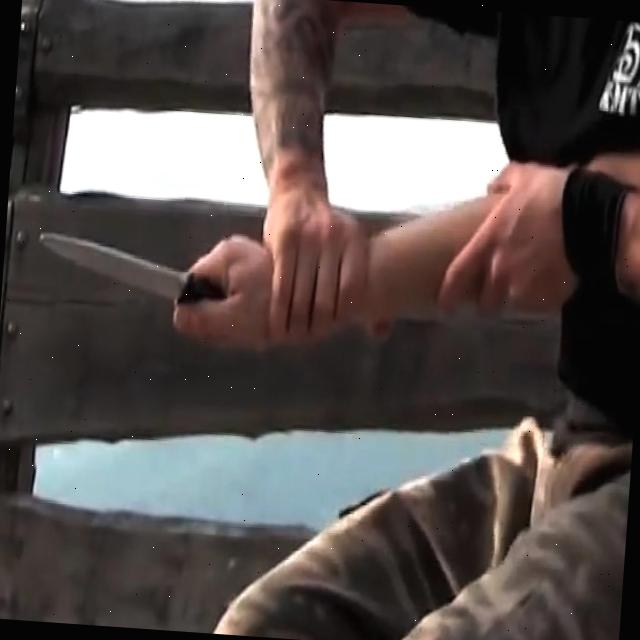suspicion: (23, 108, 640, 381), (29, 228, 228, 310)
